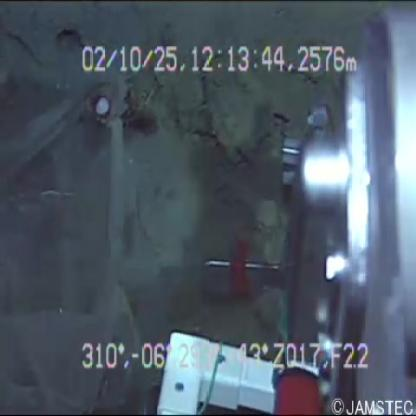Rov: (145, 7, 416, 416)
Rác: (1, 64, 157, 412)
